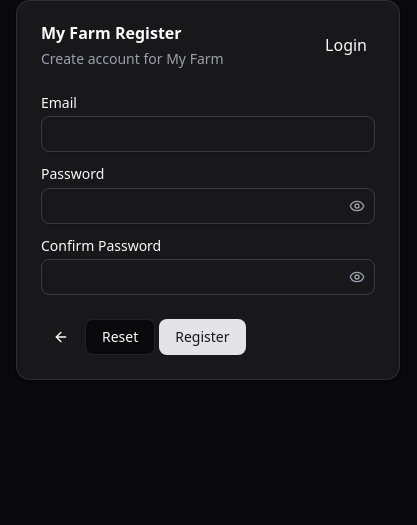
Test: Reg Form Tests › CreateUserAction Success
In the field labelled "Email": (208, 134) [41,116,375,152], type "test@test.com"
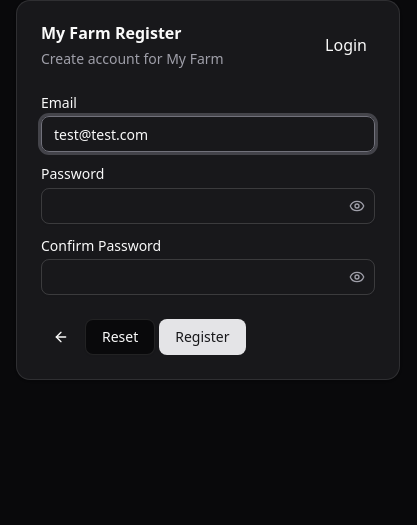
In the password field labelled "Password": (194, 206) [42,188,345,224], type "Test1test"
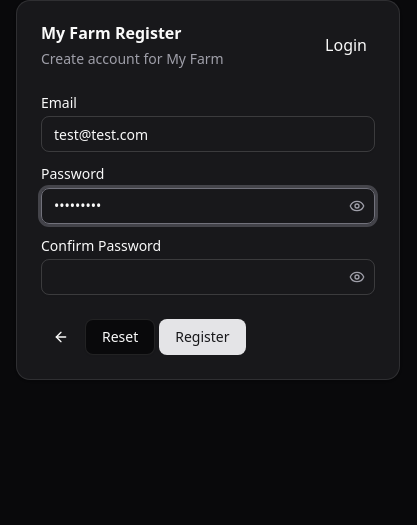
In the password field labelled "Confirm Password": (194, 277) [42,259,345,295], type "Test1test"
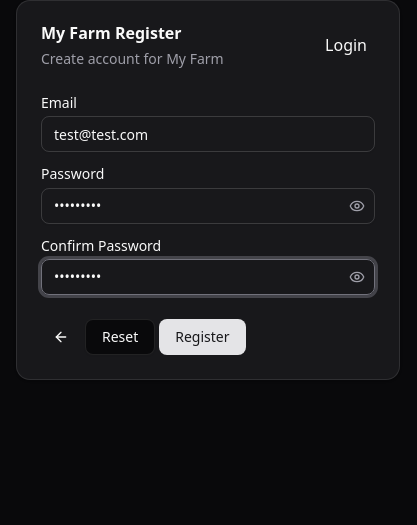
Click the button "Register": click(202, 337) [159,319,246,355]
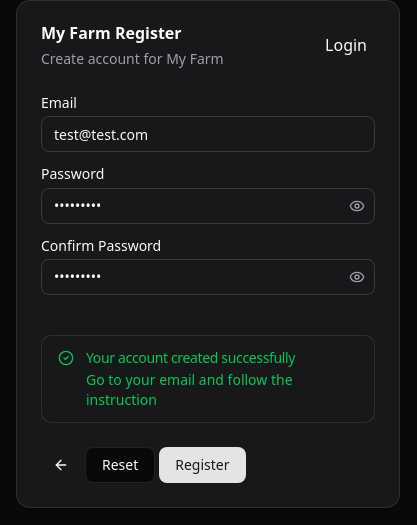
Now the heading "Your account created successfully" is shown, box [86,348,295,367]
Now the text "Go to your email and follow the instruction" is shown, box [86,370,293,409]
